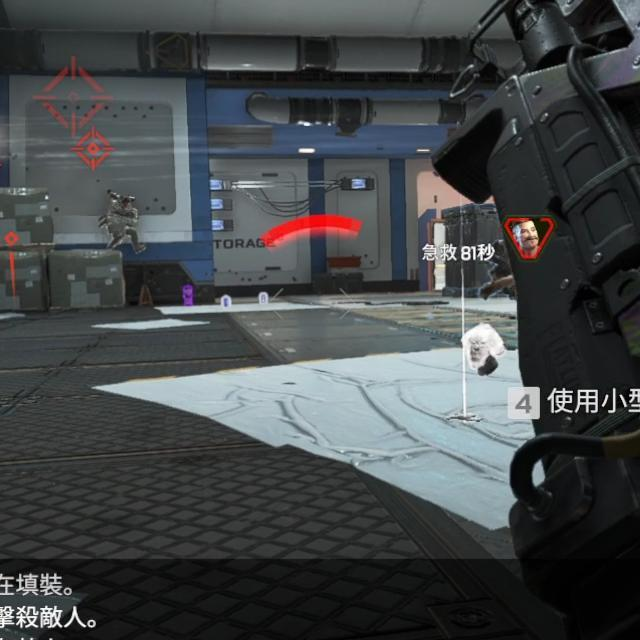avatar: (97, 189, 148, 256)
